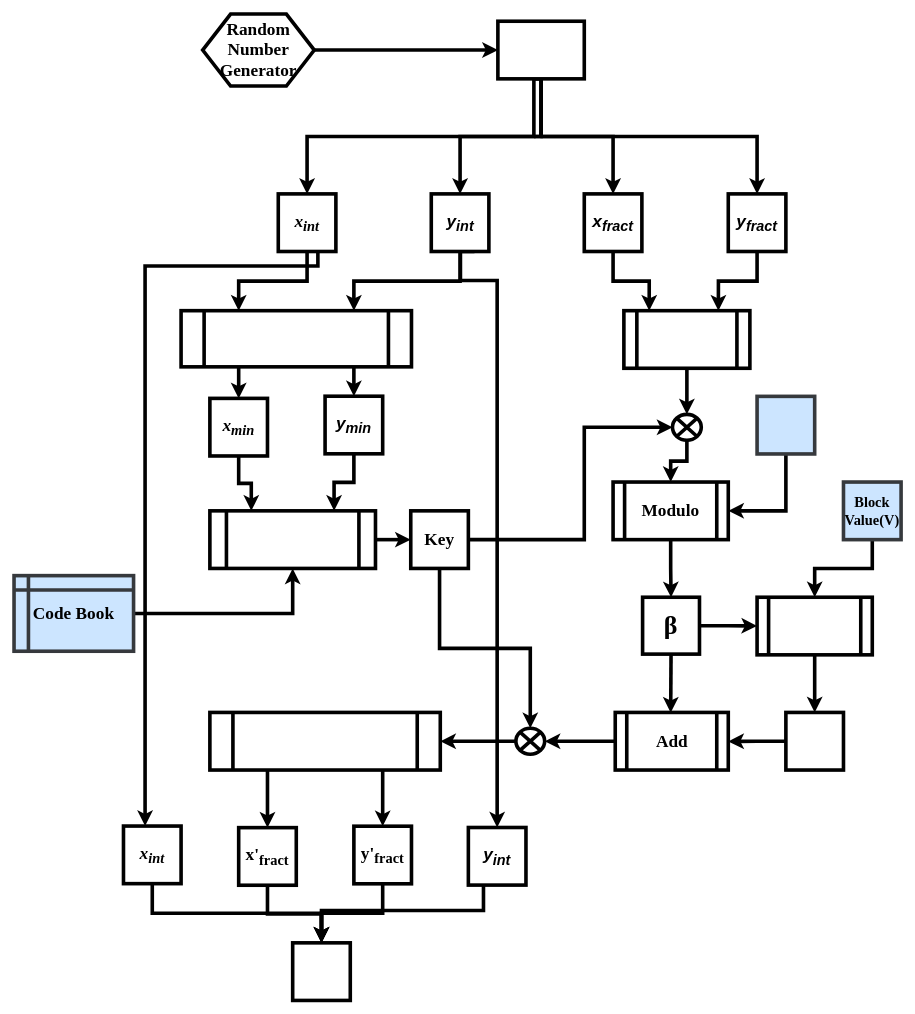
The diagram is 915 pixels wide and 1014 high, and some of its shapes have lost their labels. Each missing label, with the box of its shape:
2 l: (755, 394, 816, 455)
Calculate Offset: (755, 595, 874, 656)
Concatenate: (622, 309, 751, 370)
Key Fetching: (208, 509, 377, 570)
Offset: (784, 710, 845, 771)
output = input - (input % width): (179, 309, 413, 368)
P(x,y): (496, 19, 586, 80)
Q(x,y): (291, 941, 352, 1002)
Split: (208, 710, 442, 771)
